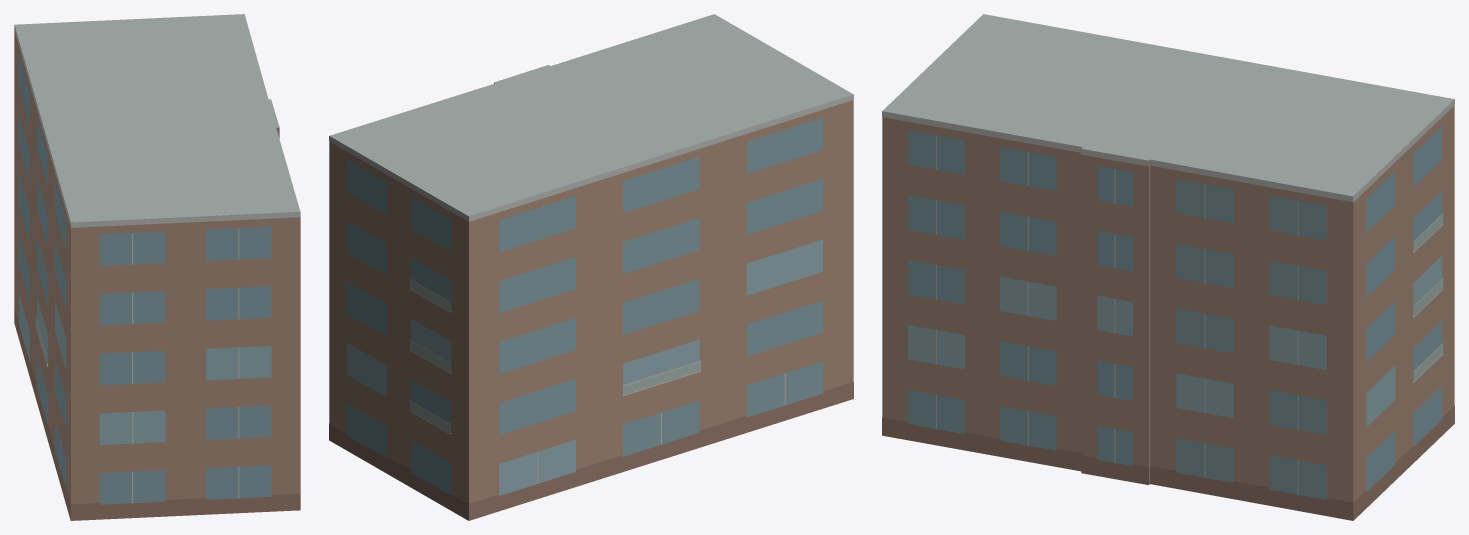
Rendered from survey-upis-32958024.glb.
The picture shows the model from 3 angles, left to right: view 1: azimuth 30°, elevation 25°; view 2: azimuth 150°, elevation 25°; view 3: azimuth 270°, elevation 25°; orthographic projection. The views are drawn at different scales.
Visible parts, largest first — view 1: survey-upis-32958024.tmp; view 2: survey-upis-32958024.tmp; view 3: survey-upis-32958024.tmp.
Part boxes in pixels (x1,y1,x2,y2): survey-upis-32958024.tmp: [14, 14, 300, 520]; survey-upis-32958024.tmp: [329, 14, 853, 520]; survey-upis-32958024.tmp: [882, 14, 1454, 520].
Size of the model in its own units: 16.17 by 13.4 by 21.45.
